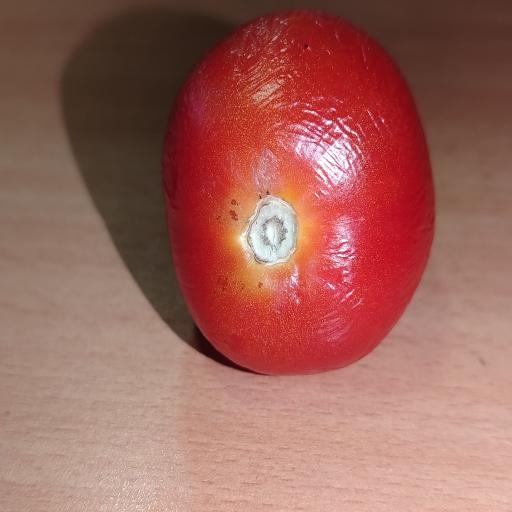spoiled: (163, 11, 434, 373)
